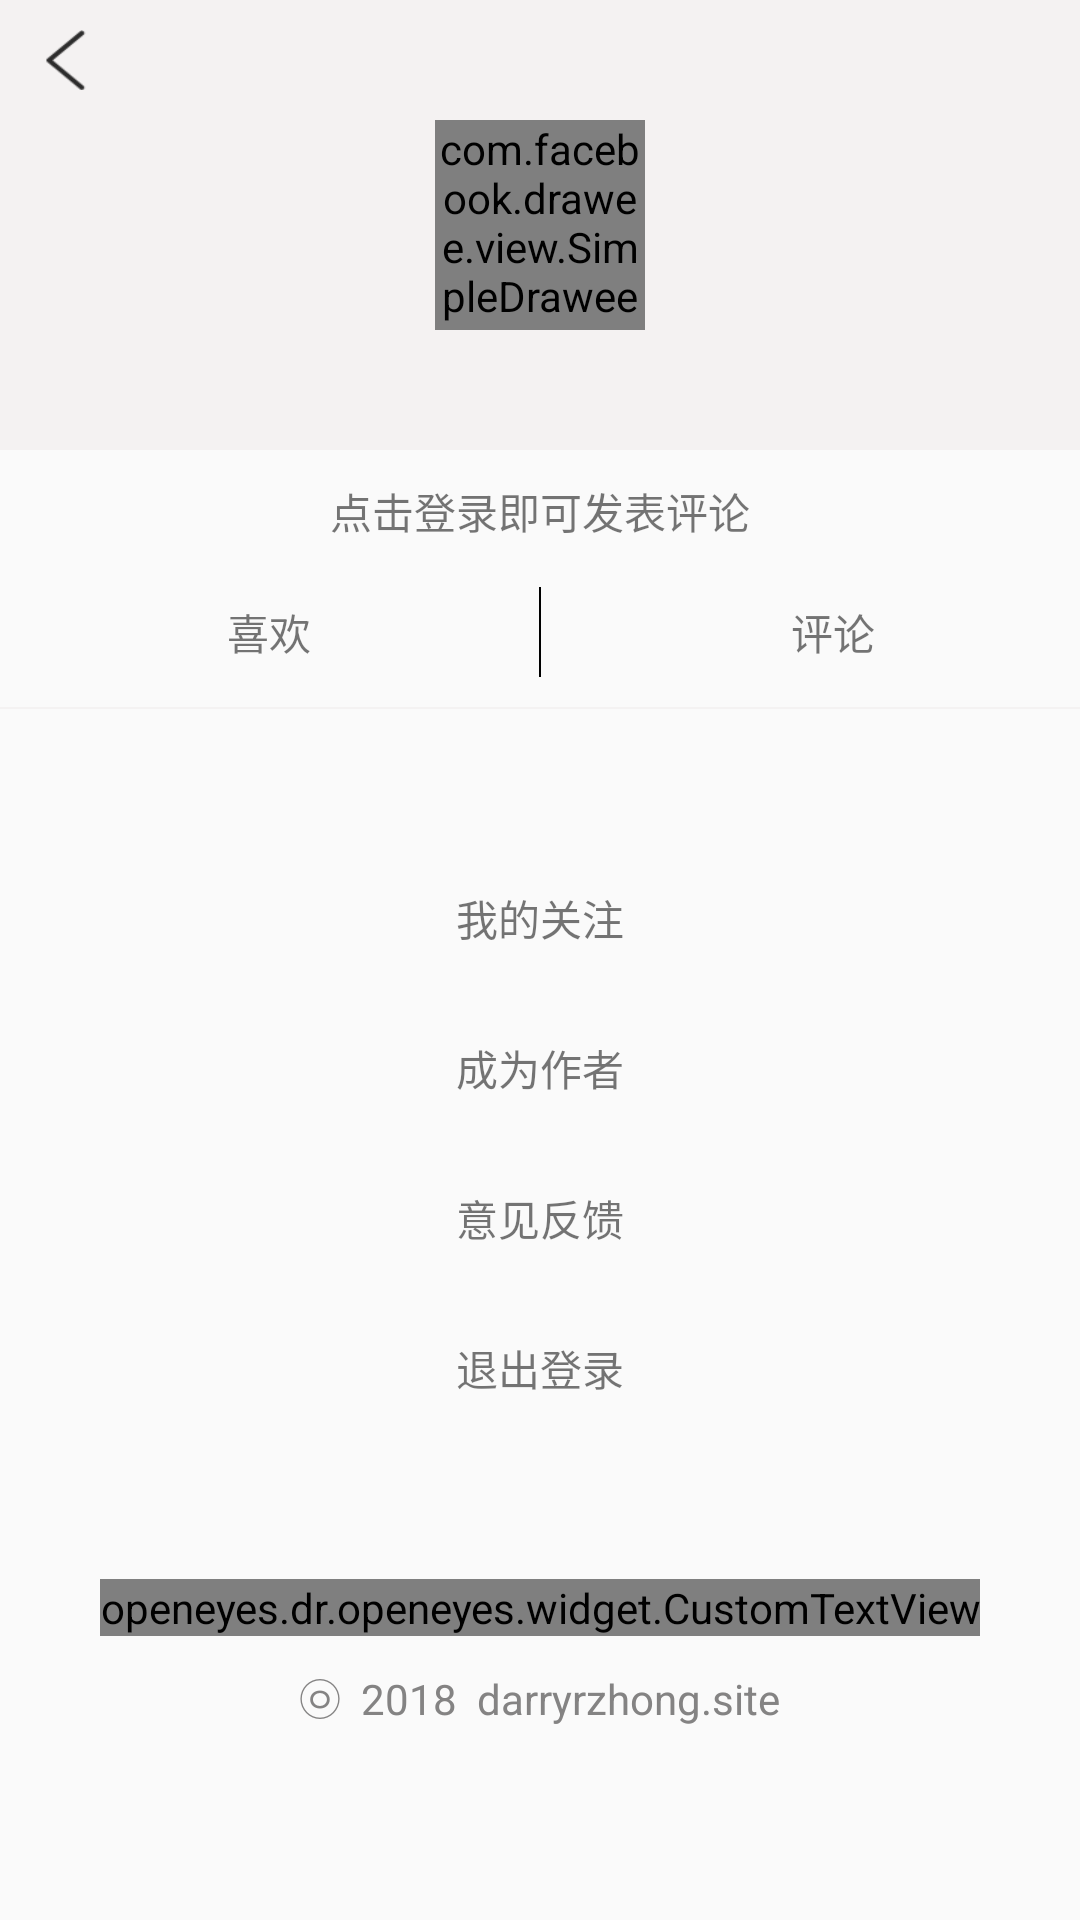

Icons on this 1080px x 1920px Android screen, each with the point to tap as point (x, y):
back: point (65, 60)
